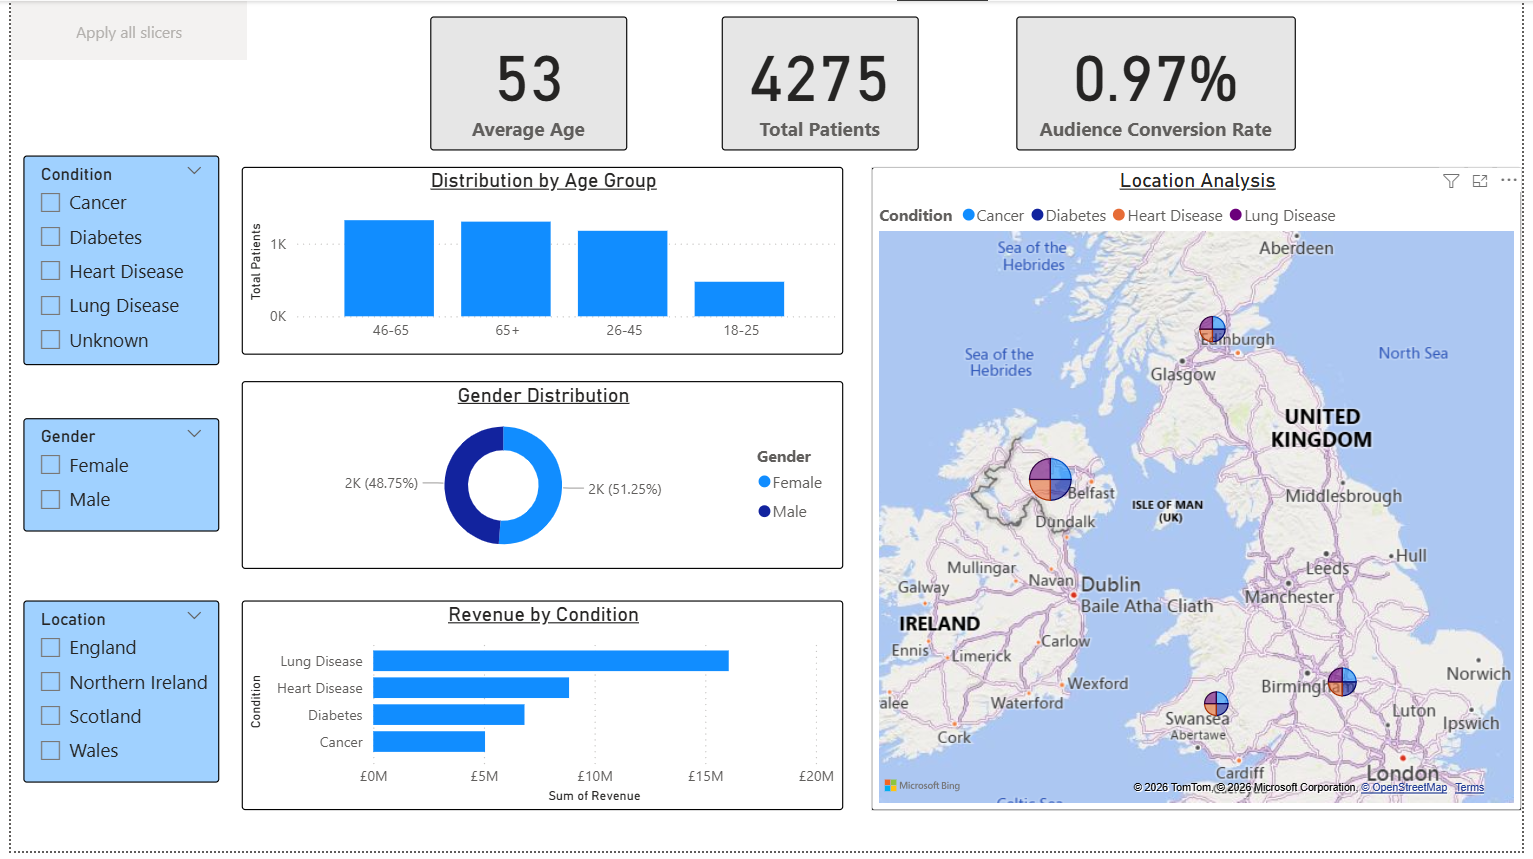

Layout of this report page (visuals, bound fields, positions):
{"tool":"powerbi","page":{"name":"Audience Insights","canvas":[1280,720],"ordinal":2},"visuals":[{"type":"slicer","fields":{"Values":["clean_audience(in).Condition"]},"box":[10.5,130.9,165.8,168.4],"z":0},{"type":"slicer","fields":{"Values":["clean_audience(in).Gender"]},"box":[10.5,353.5,165.8,96],"z":1000},{"type":"slicer","fields":{"Values":["clean_audience(in).Location"]},"box":[10.5,507.9,165.8,154.5],"z":2000},{"type":"card","fields":{"Values":["Measure.Average Age"]},"box":[355.6,13.4,166.6,113.7],"z":3000},{"type":"card","fields":{"Values":["Measure.Total Patients"]},"box":[601.9,13.4,166.6,113.7],"z":4000},{"type":"card","fields":{"Values":["Measure.Audience Conversion Rate"]},"box":[851.7,13.4,236.4,113.7],"z":5000},{"type":"clusteredColumnChart","title":"Distribution by Age Group","fields":{"Category":["Dashboard_Data(in).Age Group"],"Y":["Measure.Total Patients"]},"box":[195.5,140.5,509.7,158.8],"z":6000},{"type":"donutChart","title":"Gender Distribution","fields":{"Category":["Dashboard_Data(in).Gender"],"Y":["Measure.Total Patients"]},"box":[195.5,322,509.7,158.8],"z":7000},{"type":"clusteredBarChart","title":"Revenue by Condition","fields":{"Category":["Dashboard_Data(in).Condition"],"Y":["Sum(Dashboard_Data(in).Revenue)"]},"box":[195.5,507.9,509.7,178],"z":7001},{"type":"map","title":"Location Analysis","fields":{"Category":["clean_audience(in).Location"],"Size":["Measure.Total Revenue"],"Series":["Dashboard_Data(in).Condition"]},"box":[728.8,140.5,551.6,545.5],"z":7002}]}

Visuals, with their boxes in screenshot pixels (x1, y1, x2, y2), scaled from the page's 1280x720 canvas onto the 1533x859 screenshot:
slicer - clean_audience(in).Condition: bbox(13, 156, 211, 357)
slicer - clean_audience(in).Gender: bbox(13, 422, 211, 536)
slicer - clean_audience(in).Location: bbox(13, 606, 211, 790)
card - Measure.Average Age: bbox(426, 16, 625, 152)
card - Measure.Total Patients: bbox(721, 16, 920, 152)
card - Measure.Audience Conversion Rate: bbox(1020, 16, 1303, 152)
"Distribution by Age Group" clusteredColumnChart: bbox(234, 168, 845, 357)
"Gender Distribution" donutChart: bbox(234, 384, 845, 574)
"Revenue by Condition" clusteredBarChart: bbox(234, 606, 845, 818)
"Location Analysis" map: bbox(873, 168, 1532, 818)
